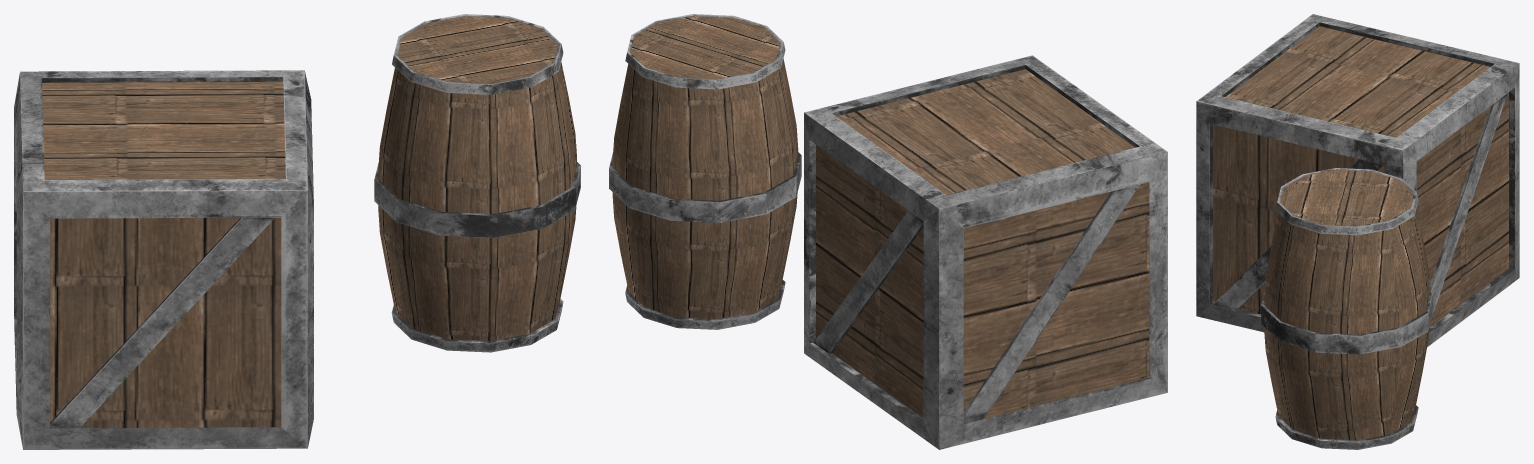
The model's file is wooden_box_and_barrel.obj.
The picture shows the model from 3 angles, left to right: view 1: azimuth 30°, elevation 25°; view 2: azimuth 150°, elevation 25°; view 3: azimuth 270°, elevation 25°; orthographic projection. The views are drawn at different scales.
Parts seen in each view (by area): view 1: wooden_box_and_barrel.001_Cube.012, wooden_box_and_barrel_Cube.013; view 2: wooden_box_and_barrel.001_Cube.012, wooden_box_and_barrel_Cube.013; view 3: wooden_box_and_barrel.001_Cube.012, wooden_box_and_barrel_Cube.013.
Boxes of the visible parts, x1=… form: wooden_box_and_barrel.001_Cube.012: x1=14, y1=70, x2=313, y2=449; wooden_box_and_barrel_Cube.013: x1=374, y1=14, x2=580, y2=352; wooden_box_and_barrel.001_Cube.012: x1=804, y1=55, x2=1167, y2=449; wooden_box_and_barrel_Cube.013: x1=609, y1=14, x2=801, y2=329; wooden_box_and_barrel.001_Cube.012: x1=1196, y1=14, x2=1519, y2=347; wooden_box_and_barrel_Cube.013: x1=1261, y1=168, x2=1432, y2=449.
Bounding box in the file's own units: 4.91 × 2.29 × 2.92.
Materials: 1 (1 with a texture image).
